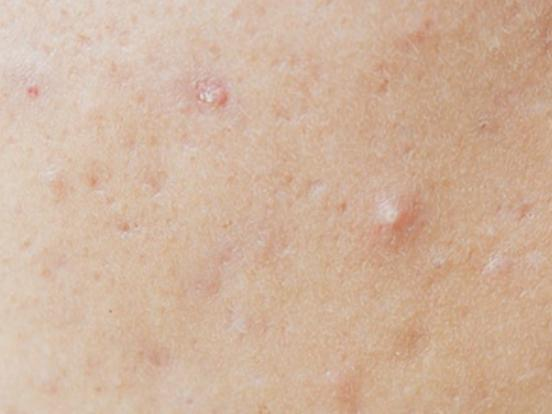purulent: (372, 203, 424, 246)
